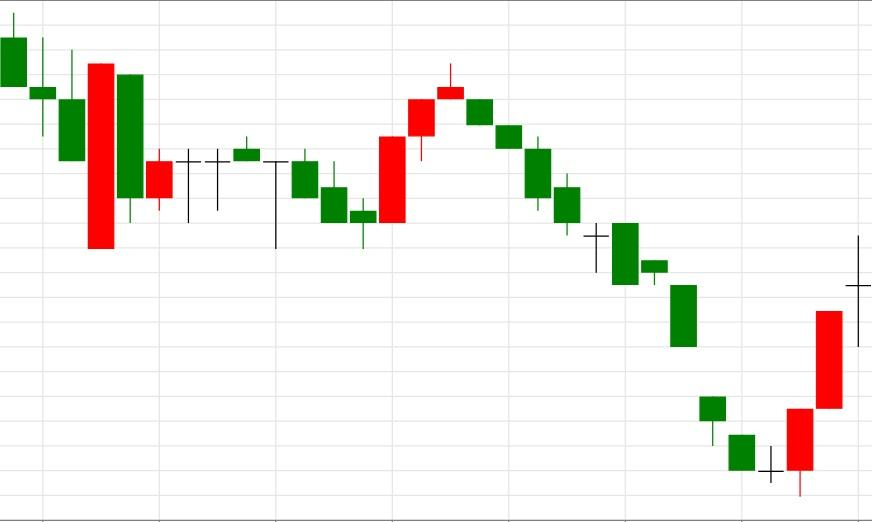morning_star_rise: (436, 63, 815, 497)
three_black_crows_fall: (348, 64, 552, 248)
